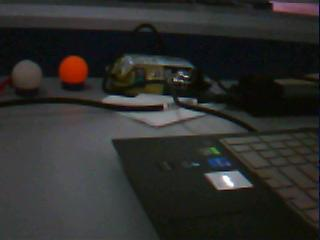oball: (59, 55, 87, 82)
